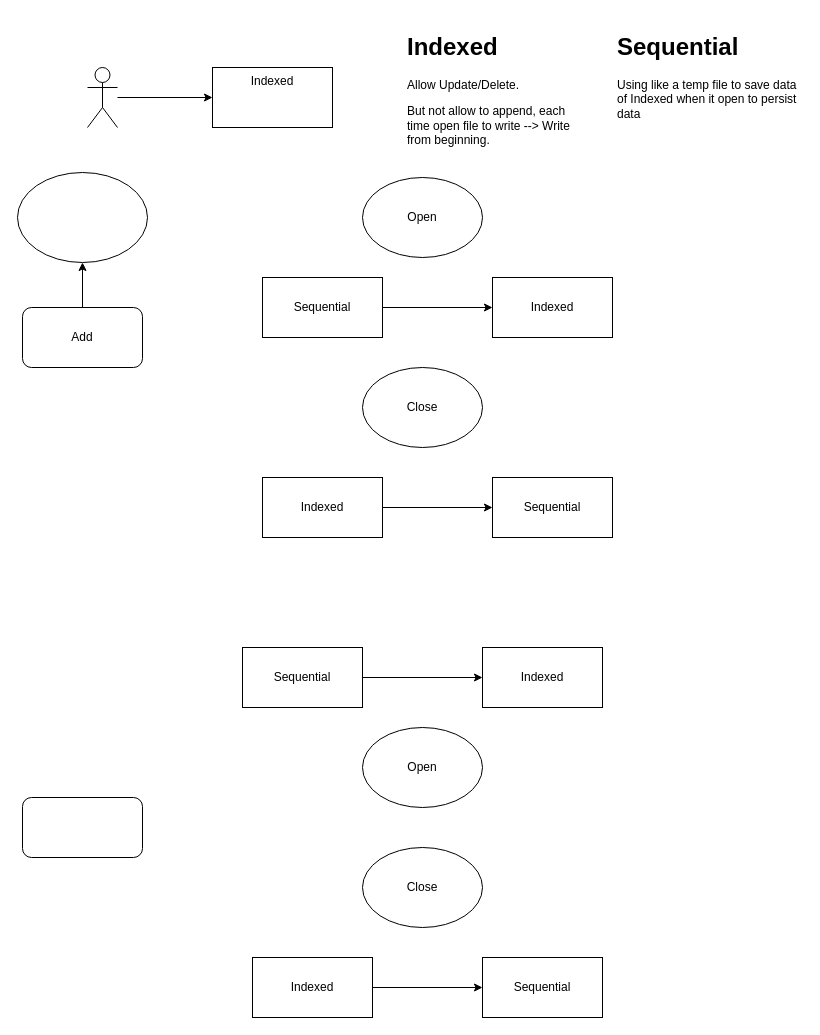
Some shapes in this 820 by 1035 pixel diagram are drawn without their labels. Here are the shapes that lost their labels. From the top down, the centre of each, then its label:
At [102,97]: "Actor".
At [82,217]: "Indexed write from begin when we start write".
At [82,827]: "Update/Delete".
